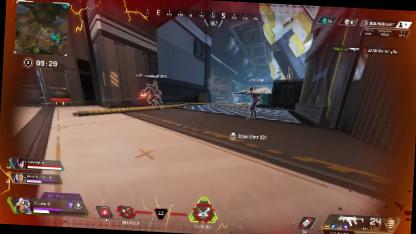Target: (243, 86, 261, 119), (143, 81, 163, 107)
